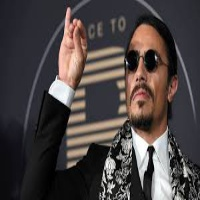ring: (69, 22, 73, 40)
